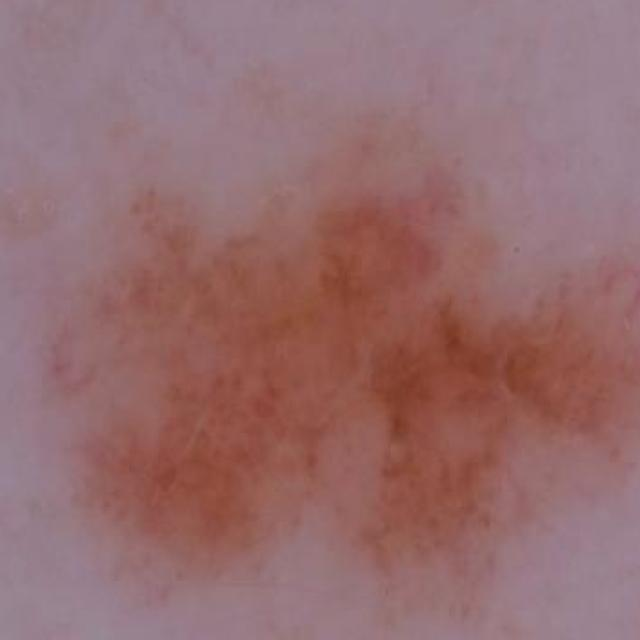NV: (20, 63, 640, 640)
